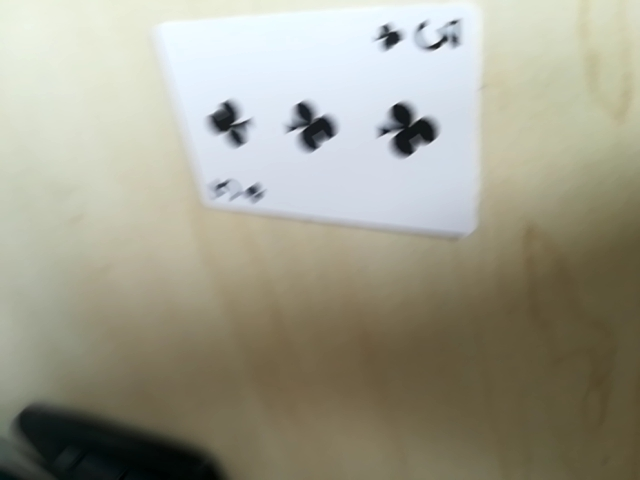mh 3: (379, 13, 467, 58), (201, 173, 266, 212)
